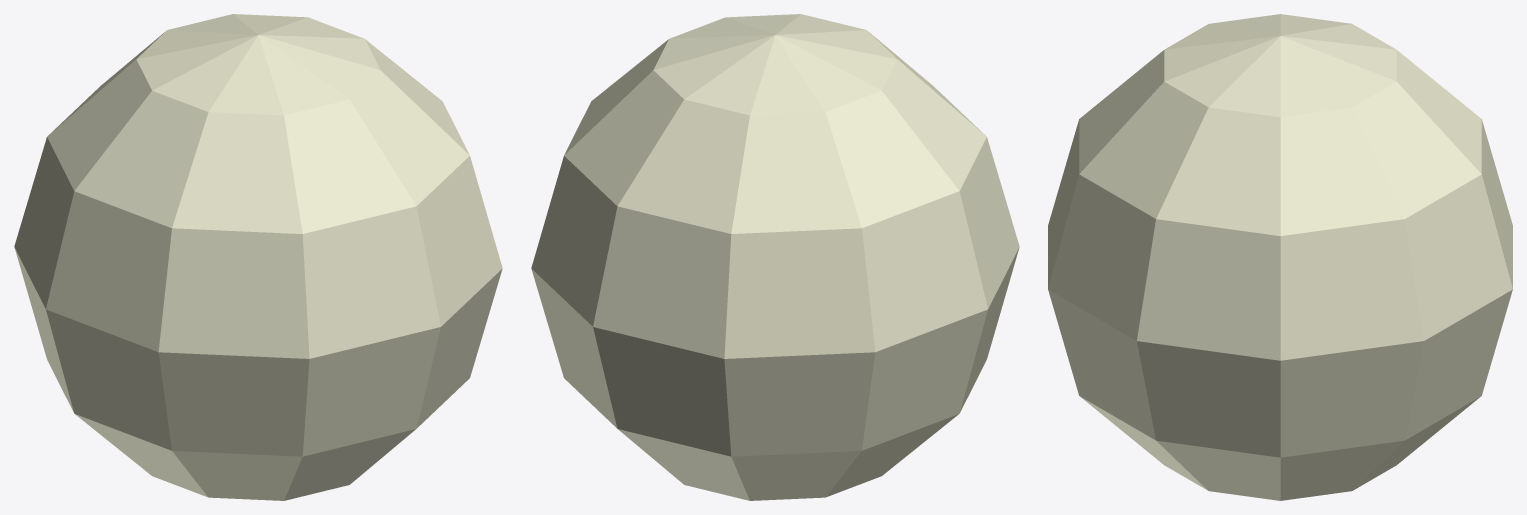
The model's file is ball.obj.
The picture shows the model from 3 angles, left to right: view 1: azimuth 30°, elevation 25°; view 2: azimuth 150°, elevation 25°; view 3: azimuth 270°, elevation 25°; orthographic projection.
Parts seen in each view (by area): view 1: generated_asset; view 2: generated_asset; view 3: generated_asset.
Boxes of the visible parts, <box> form: generated_asset: <box>14,14,502,500</box>; generated_asset: <box>531,14,1019,500</box>; generated_asset: <box>1048,14,1512,500</box>.
Bounding box in the file's own units: 0.28 × 0.28 × 0.2663.
